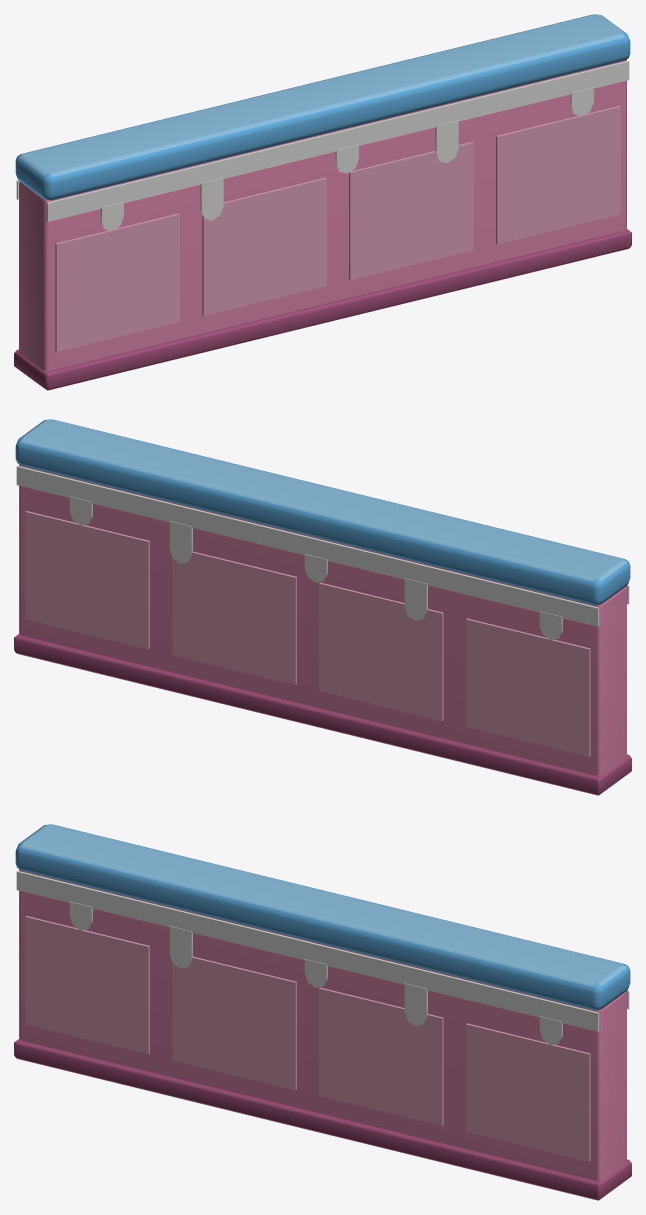
The model's file is block-plotwall2.glb.
The picture shows the model from 3 angles, top to bottom: view 1: azimuth 30°, elevation 25°; view 2: azimuth 150°, elevation 25°; view 3: azimuth 330°, elevation 25°; orthographic projection.
Parts seen in each view (by area): view 1: block-plotwall2; view 2: block-plotwall2; view 3: block-plotwall2.
Part boxes in pixels (x1,y1,x2,y2): block-plotwall2: (14, 14, 631, 390); block-plotwall2: (14, 419, 631, 795); block-plotwall2: (14, 824, 631, 1200).
Size of the model in its own units: 4 by 1.4 by 0.4.
